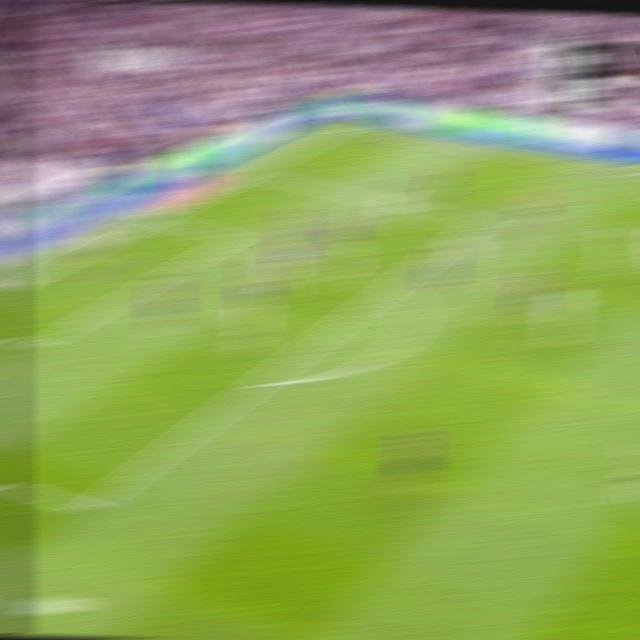bigarea_bottom_inner: (71, 491, 104, 524)
bigarea_top_inner: (470, 211, 495, 228)
bigarea_top_outter: (240, 164, 267, 179)
bottom_arc_area_intersection: (244, 371, 273, 392)
corner: (334, 120, 362, 131)
smallarea_bottom_inner: (21, 335, 48, 357)
smallarea_top_inner: (221, 226, 248, 247)
top_arc_area_intersection: (379, 274, 406, 293)
